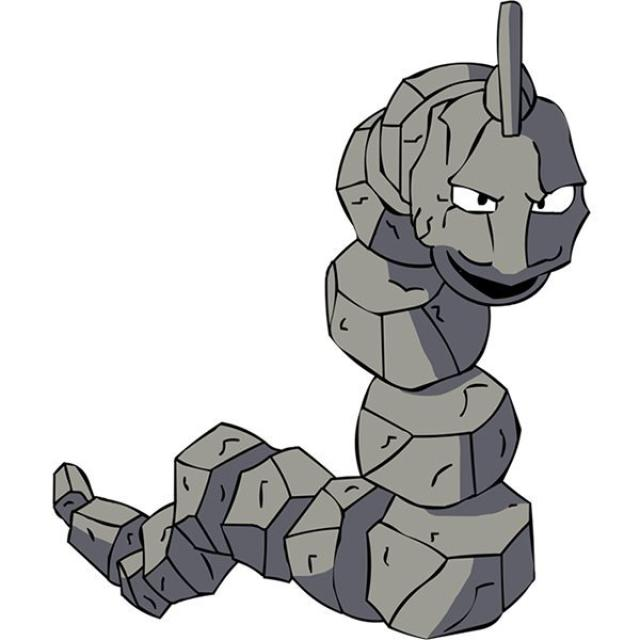Onix: (317, 57, 618, 632)
